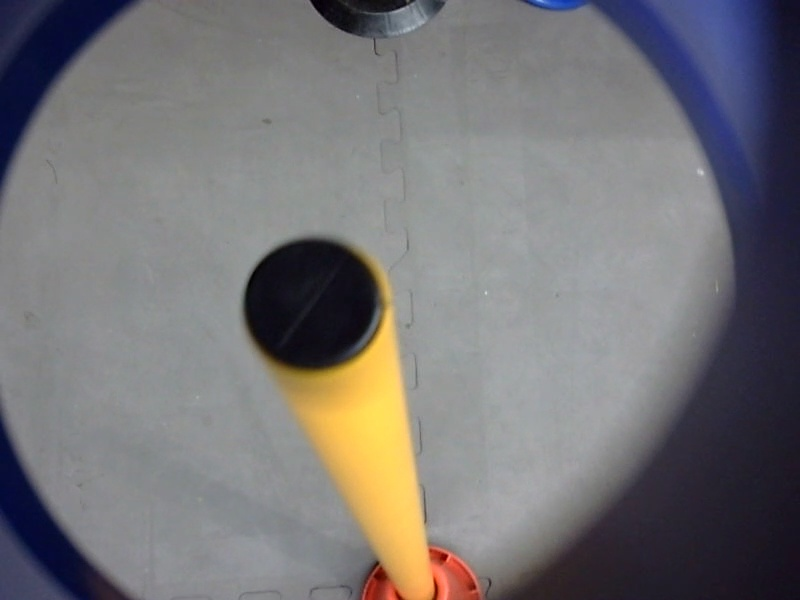tip: (225, 227, 400, 387)
